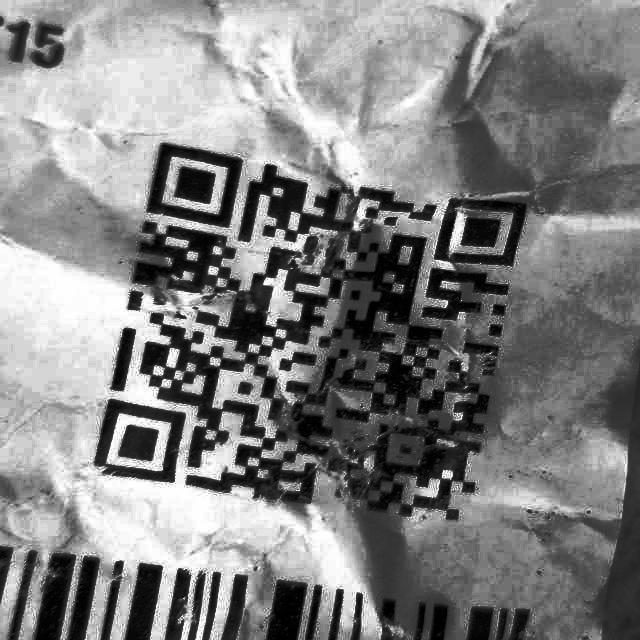qr_code: (85, 129, 536, 542)
